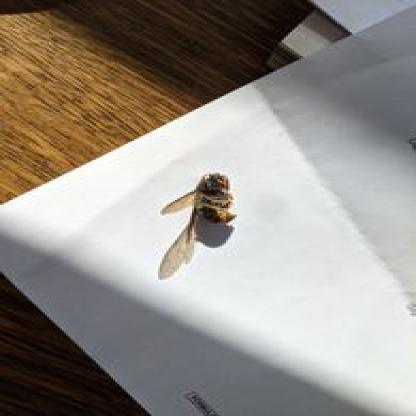Asian Hornet: (161, 165, 255, 277)
